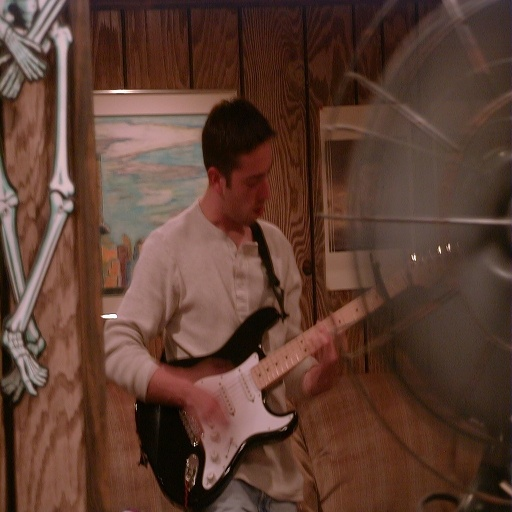hand: (306, 305, 350, 387), (178, 382, 227, 430)
